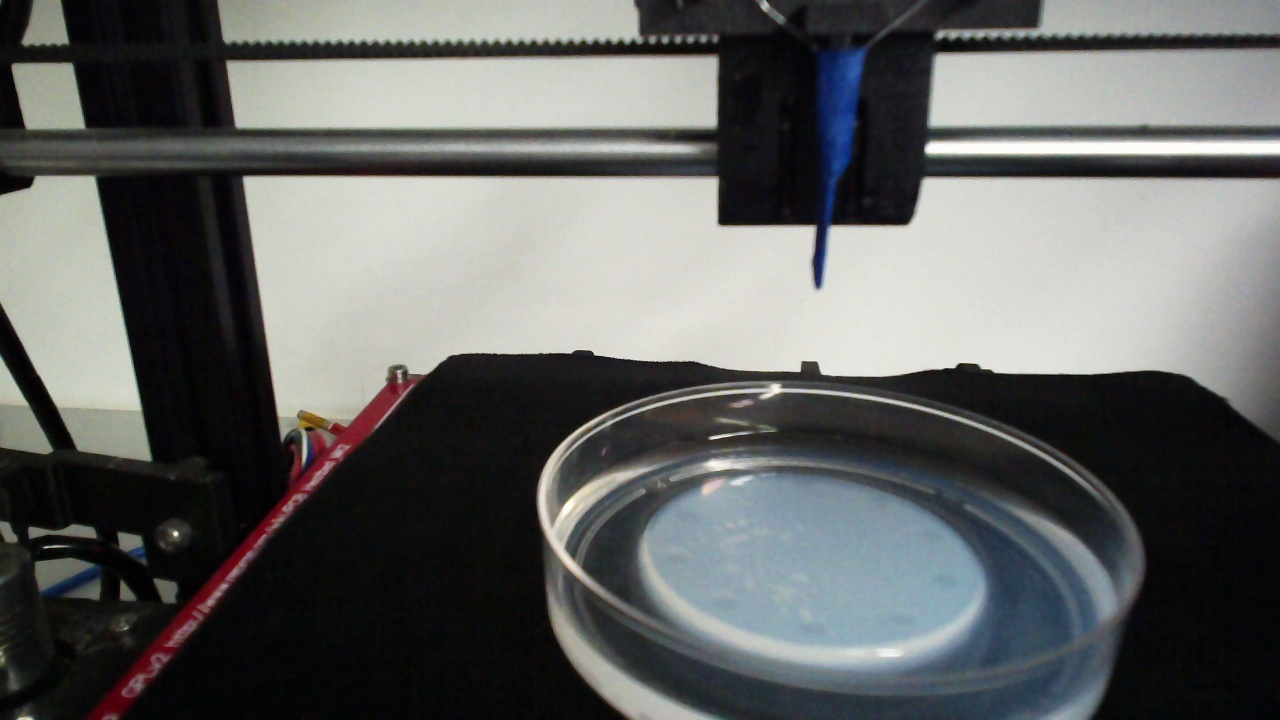groove: (933, 570, 963, 590), (799, 619, 829, 638), (711, 594, 739, 614), (792, 473, 820, 493), (674, 508, 703, 527), (920, 526, 948, 545), (866, 491, 894, 510), (665, 548, 690, 568), (890, 611, 917, 629)
needle: (814, 53, 861, 289)
